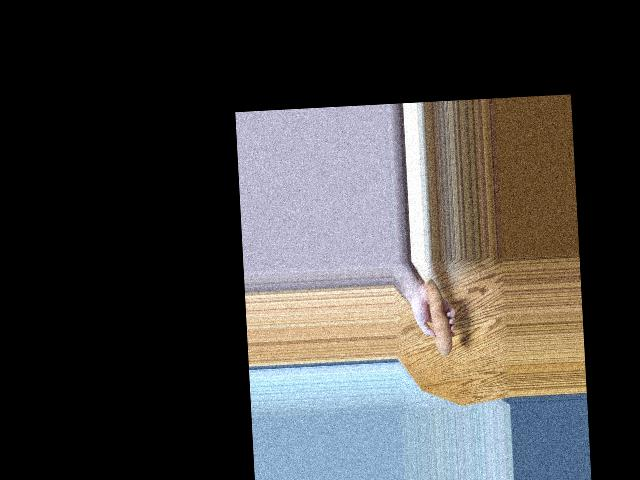sweet_potato: (424, 281, 458, 356)
